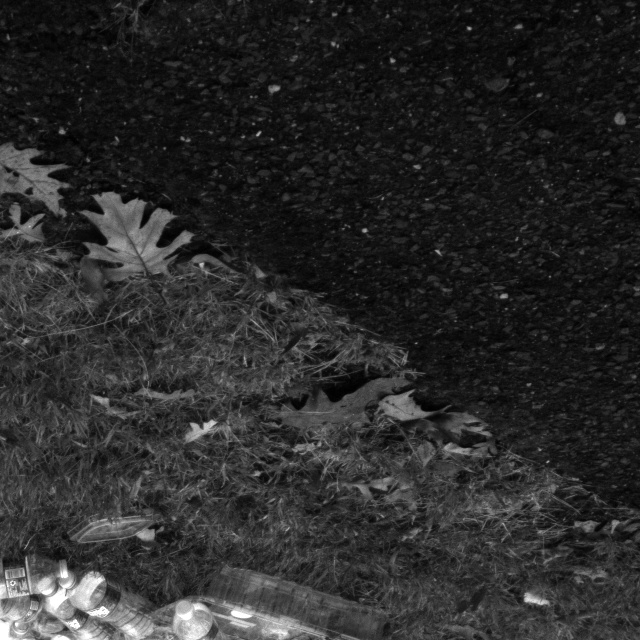bottle: (40, 552, 151, 640), (27, 574, 119, 640), (0, 555, 75, 601)
container: (151, 557, 392, 640), (62, 511, 168, 557)
